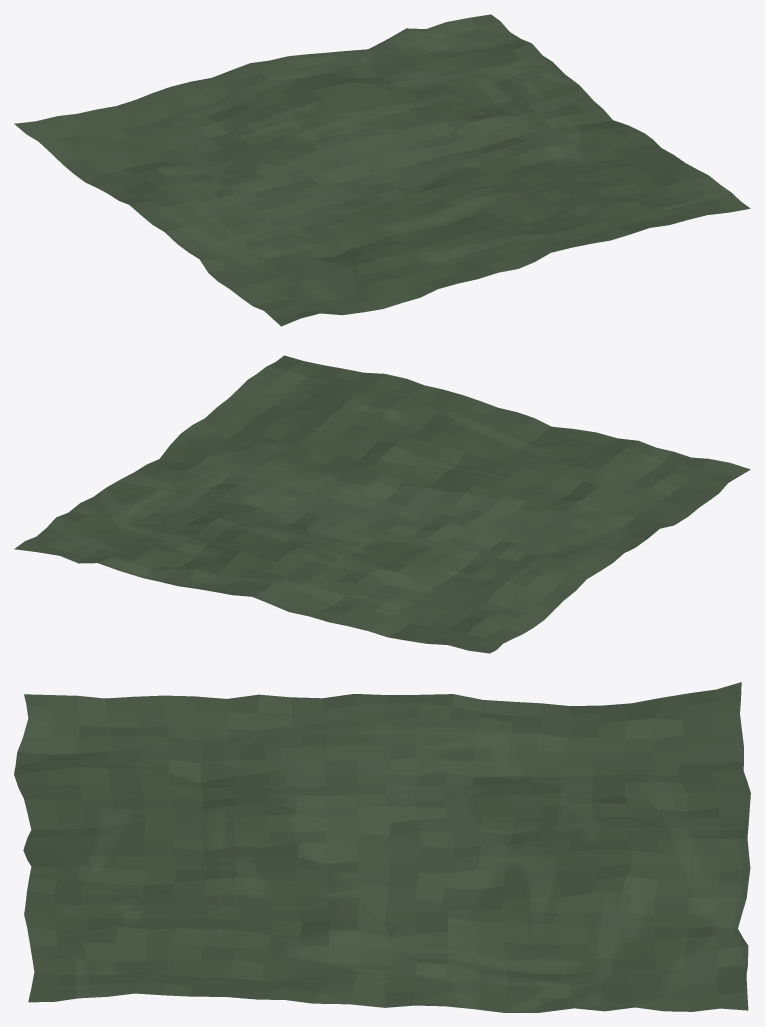
File: ground.glb
3 views of the same model, one above another, from view 1: azimuth 30°, elevation 25°; view 2: azimuth 150°, elevation 25°; view 3: azimuth 270°, elevation 25° (orthographic). The views are drawn at different scales.
Visible parts, largest first — view 1: Plane.003; view 2: Plane.003; view 3: Plane.003.
Boxes of the visible parts, x1,y1,x2,y2 form: Plane.003: (14, 14, 750, 326); Plane.003: (14, 355, 750, 653); Plane.003: (14, 682, 750, 1012).
Bounding box in the file's own units: 724 × 24.38 × 714.
1 material, 1 textured.
